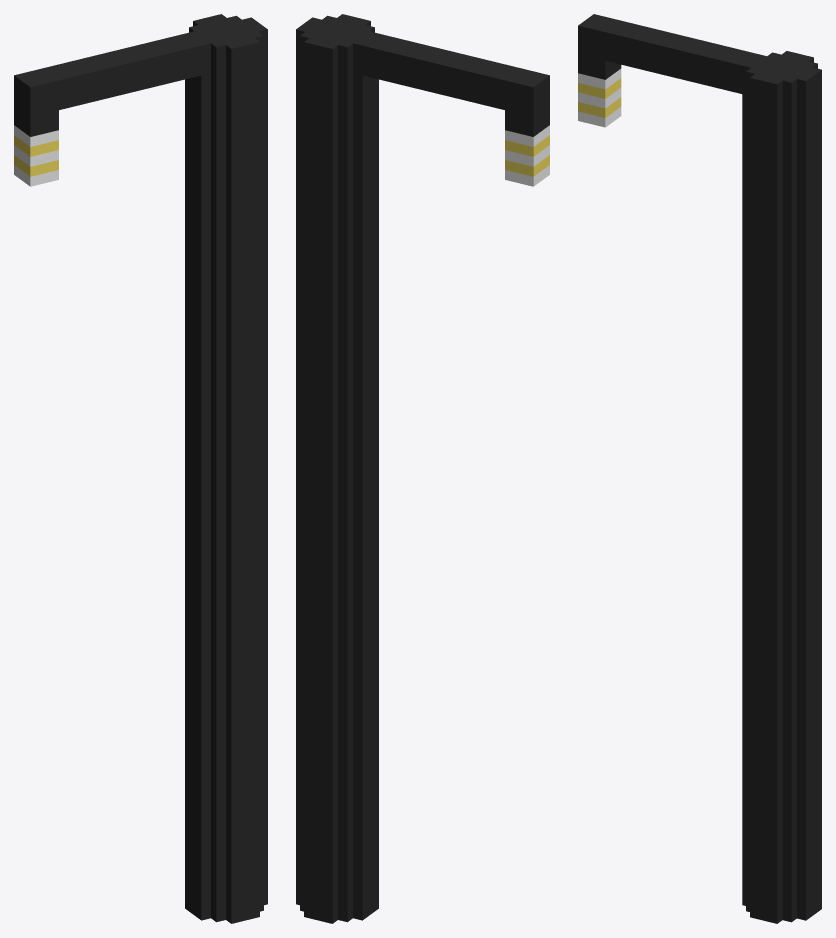
File: Lamp-0-Lamp.obj
3 views of the same model, side by side, from view 1: azimuth 30°, elevation 25°; view 2: azimuth 150°, elevation 25°; view 3: azimuth 330°, elevation 25° (orthographic). The views are drawn at different scales.
Visible parts, largest first — view 1: Lamp; view 2: Lamp; view 3: Lamp.
Boxes of the visible parts, x1=… form: Lamp: x1=14, y1=14, x2=267, y2=923; Lamp: x1=296, y1=14, x2=549, y2=923; Lamp: x1=578, y1=14, x2=821, y2=923.
Size of the model in its own units: 2.5 by 8.8 by 0.7.
Materials: 1 (1 with a texture image).
